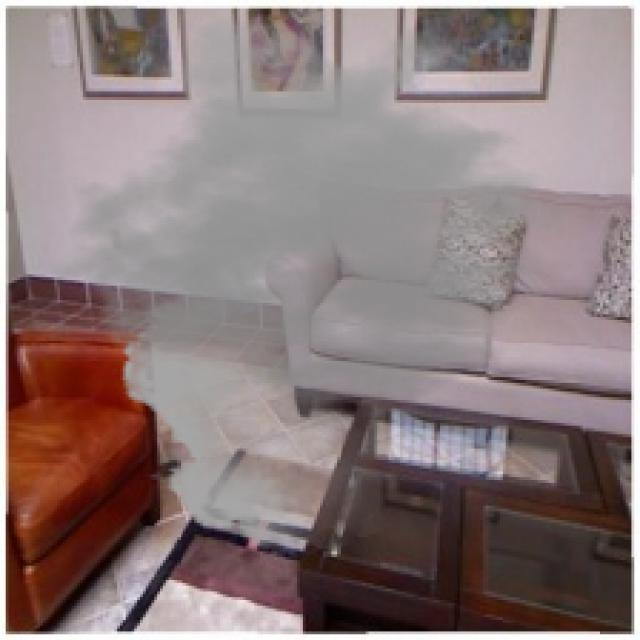smoke: (51, 12, 603, 557)
